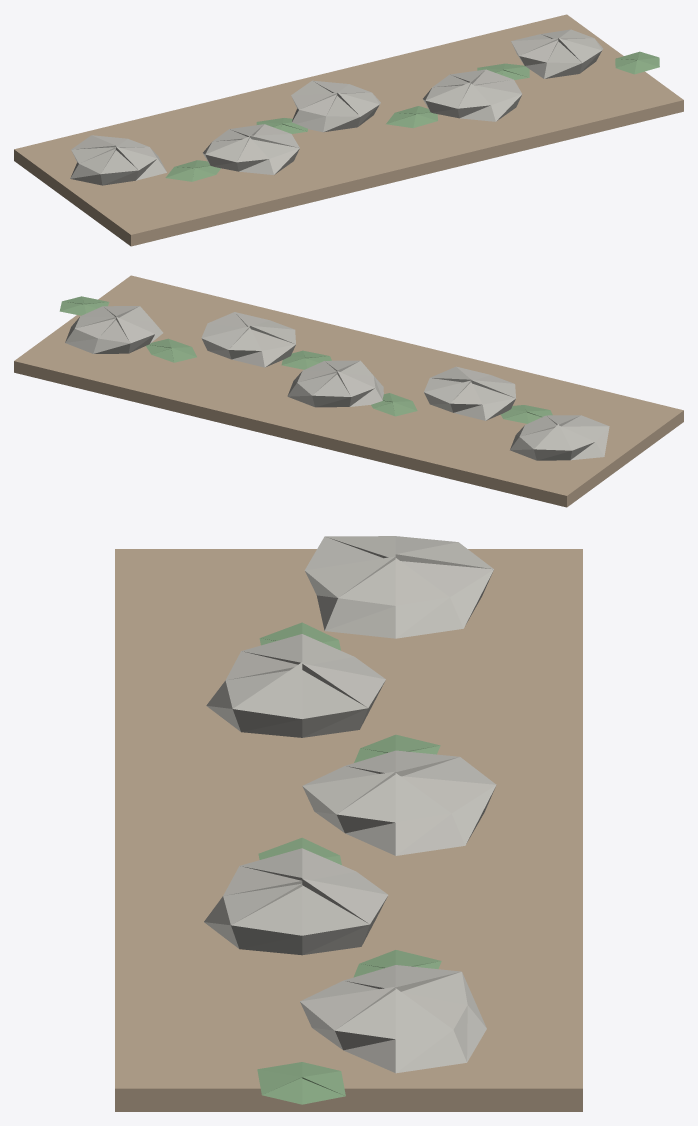
Rendered from stepping-stones.glb.
3 renders of one model, top to bottom at view 1: azimuth 30°, elevation 25°; view 2: azimuth 150°, elevation 25°; view 3: azimuth 270°, elevation 25°, orthographic. The views are drawn at different scales.
Visible parts, largest first — view 1: stepping-stone-path; view 2: stepping-stone-path; view 3: stepping-stone-path.
Part boxes in pixels (x1,y1,x2,y2): stepping-stone-path: (14,14,683,246); stepping-stone-path: (14,275,683,507); stepping-stone-path: (115,536,582,1111).
Bounding box in the file's own units: 3.12 × 0.1867 × 1.1.
